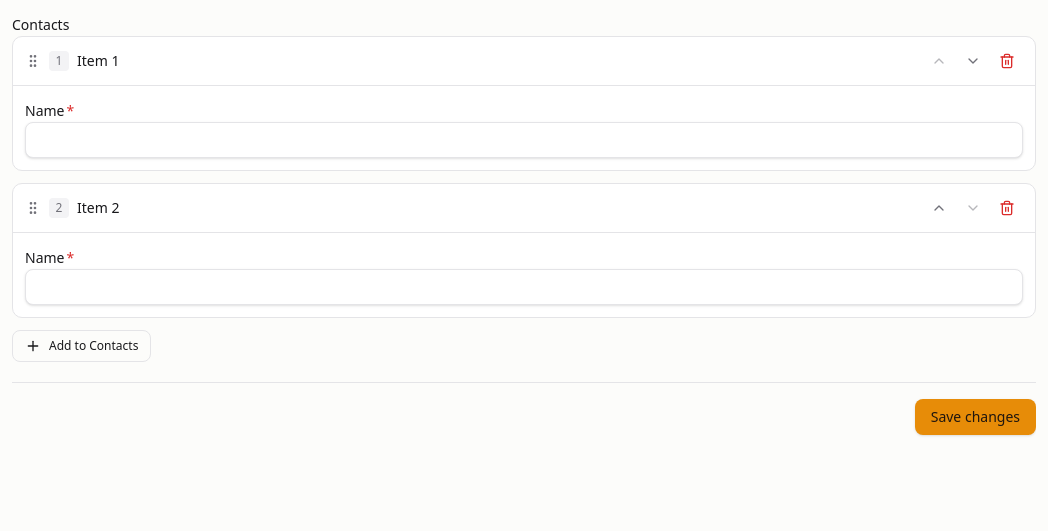
it: validation feedback › pluralises the summary
What coordinates should you click on to do the following:
click the button "Save changes"
I would click on:
 (975, 417)
Its box is [915,399,1036,435].
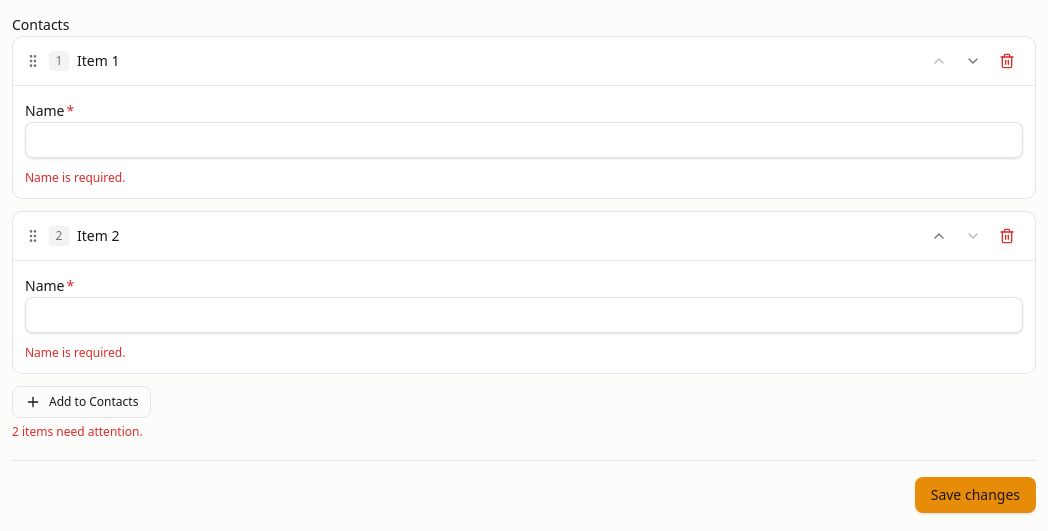
Expected: the text "2 items need attention." is shown, [12,423,143,440]
